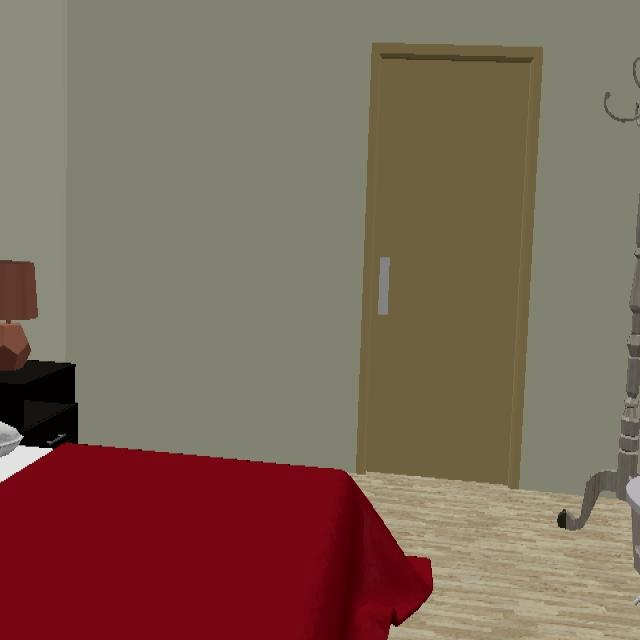bed: (0, 421, 435, 640)
lamp: (0, 260, 41, 375)
nighttable: (0, 360, 80, 451)
